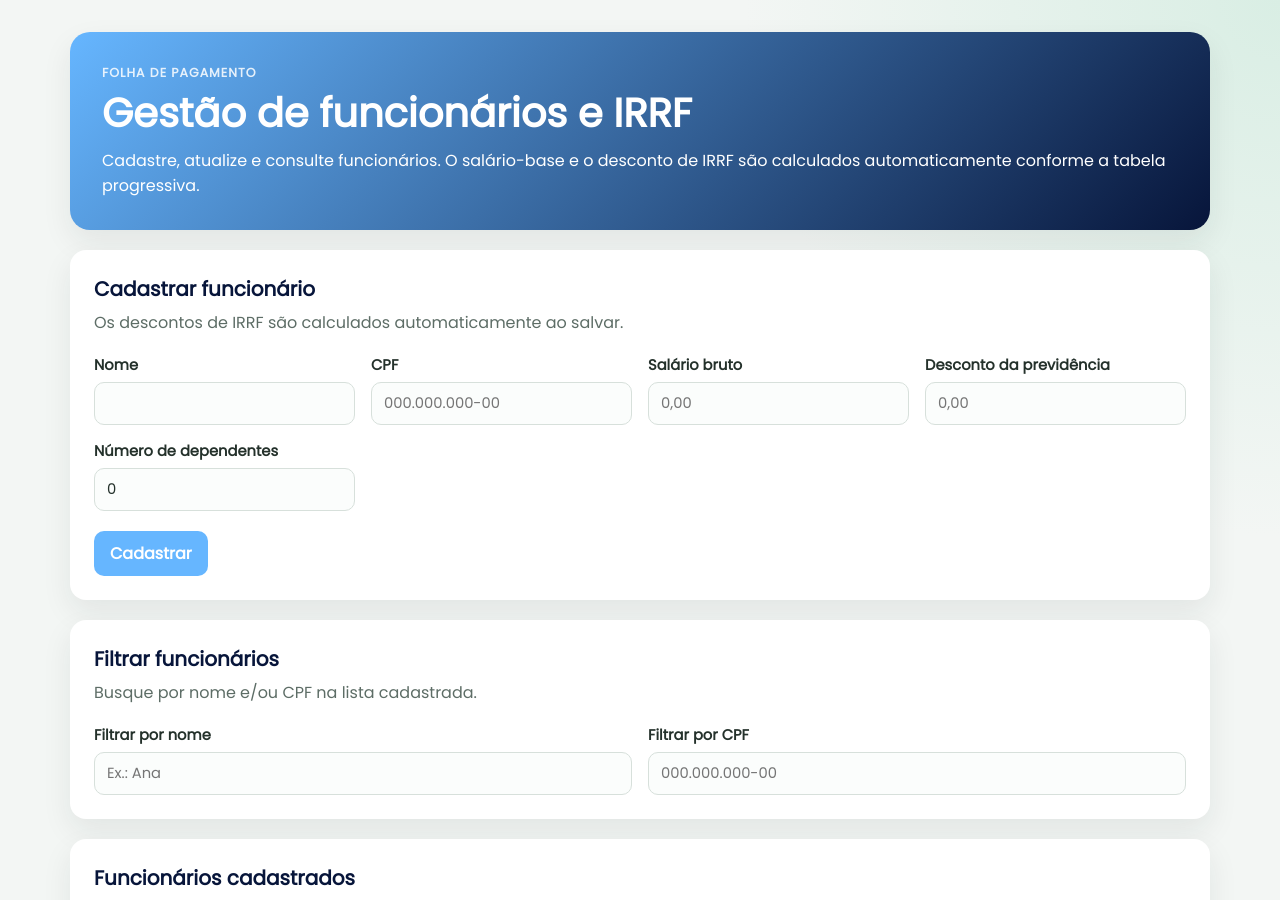
Test case: gestão de funcionários › cadastra um novo funcionário e exibe o IRRF calculado
The width and height of the screenshot is (1280, 900).
In the field labelled "Nome": (224,404) [94,382,355,425], type "Carlos Eduardo Lima"
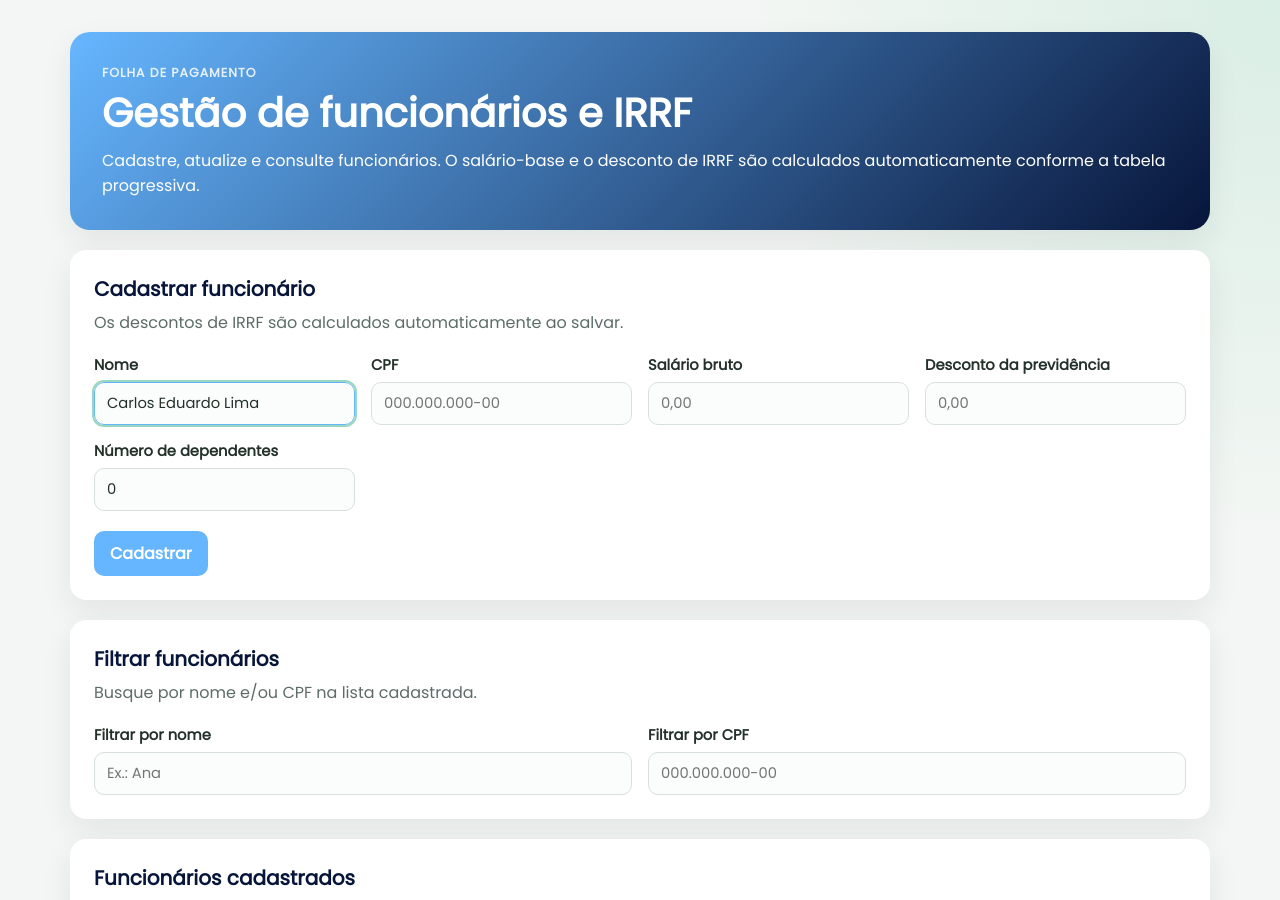
In the field labelled "CPF": (502,404) [371,382,632,425], type "39053344705"
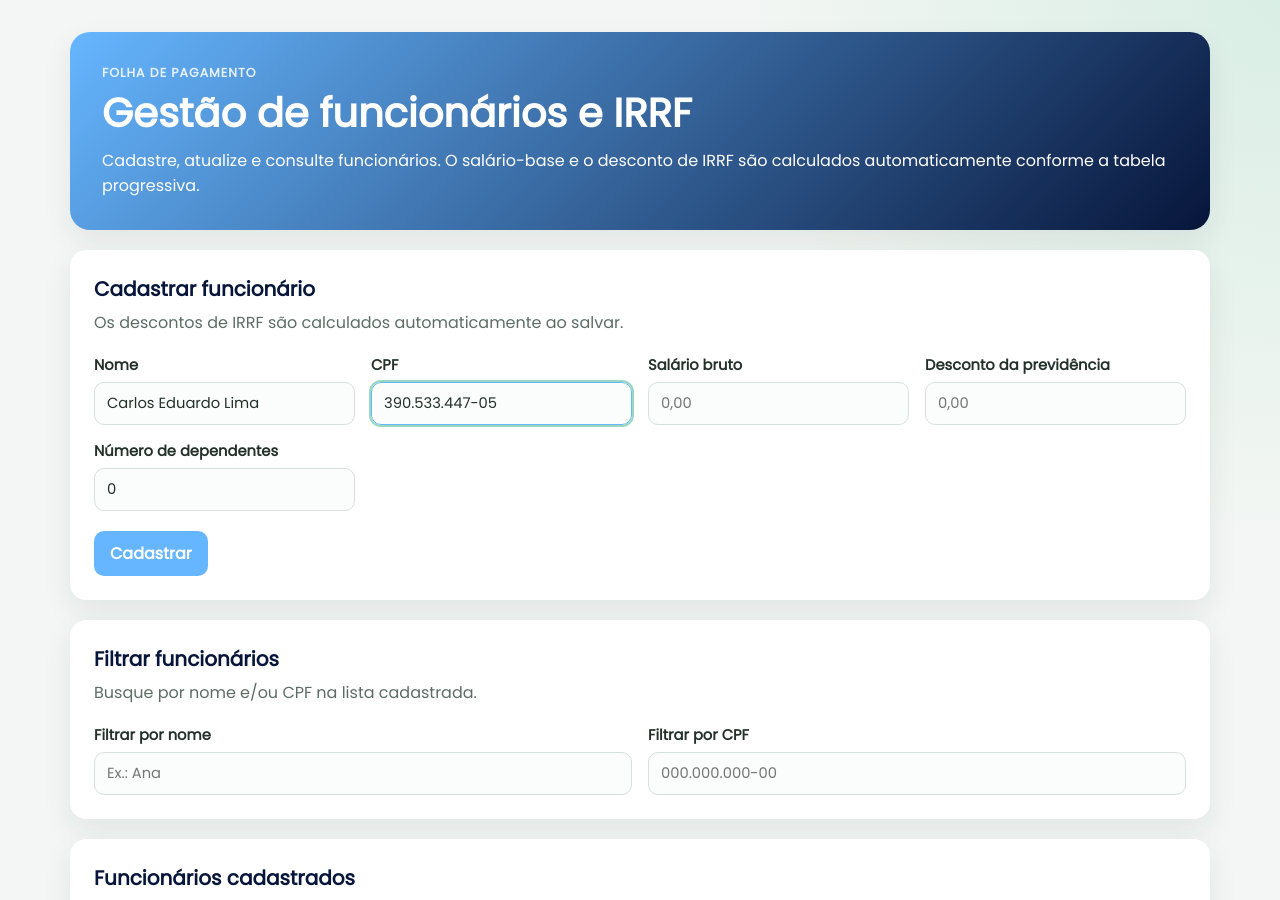
In the number field labelled "Salário bruto": (778,404) [648,382,909,425], type "3200"
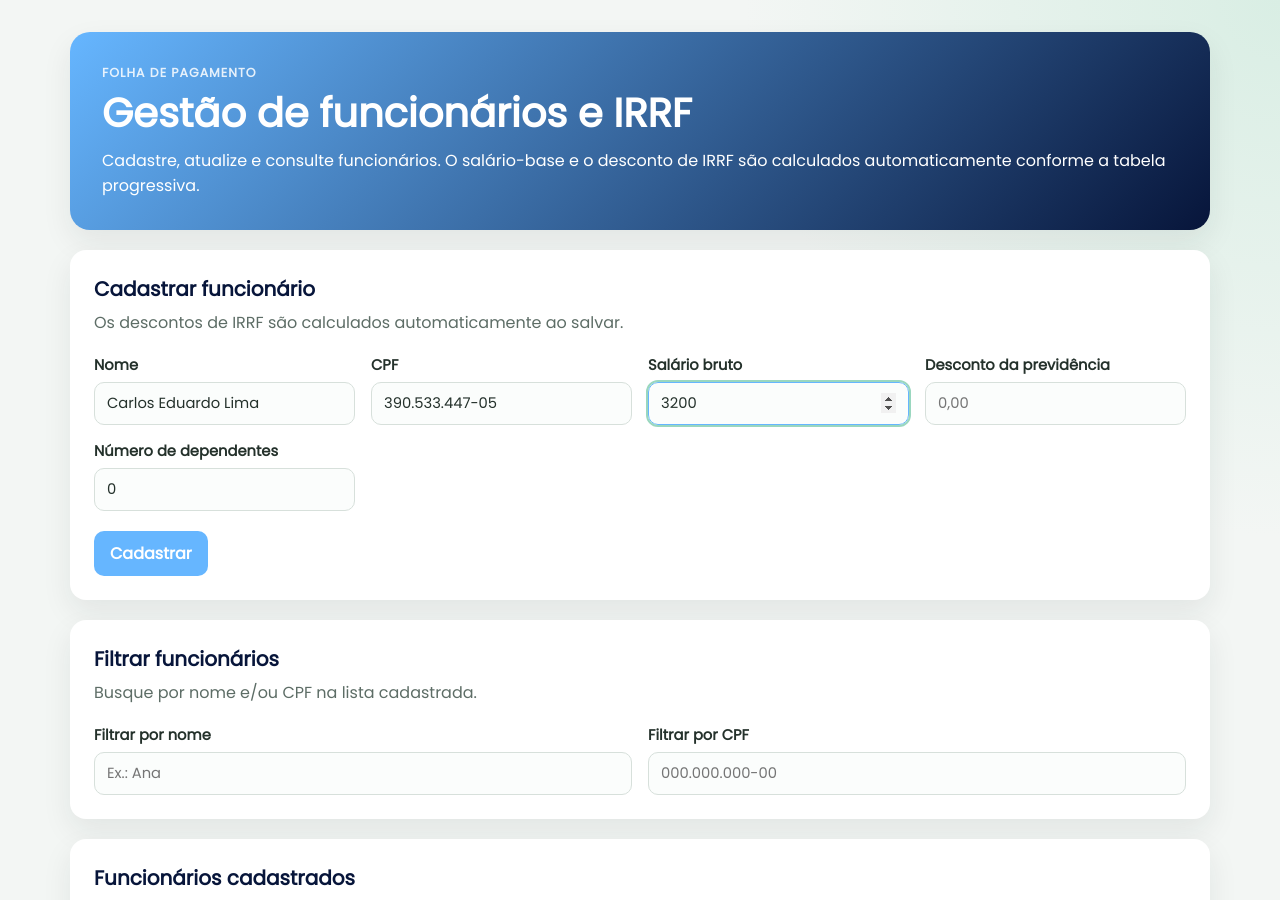
In the number field labelled "Desconto da previdência": (1056,404) [925,382,1186,425], type "320"
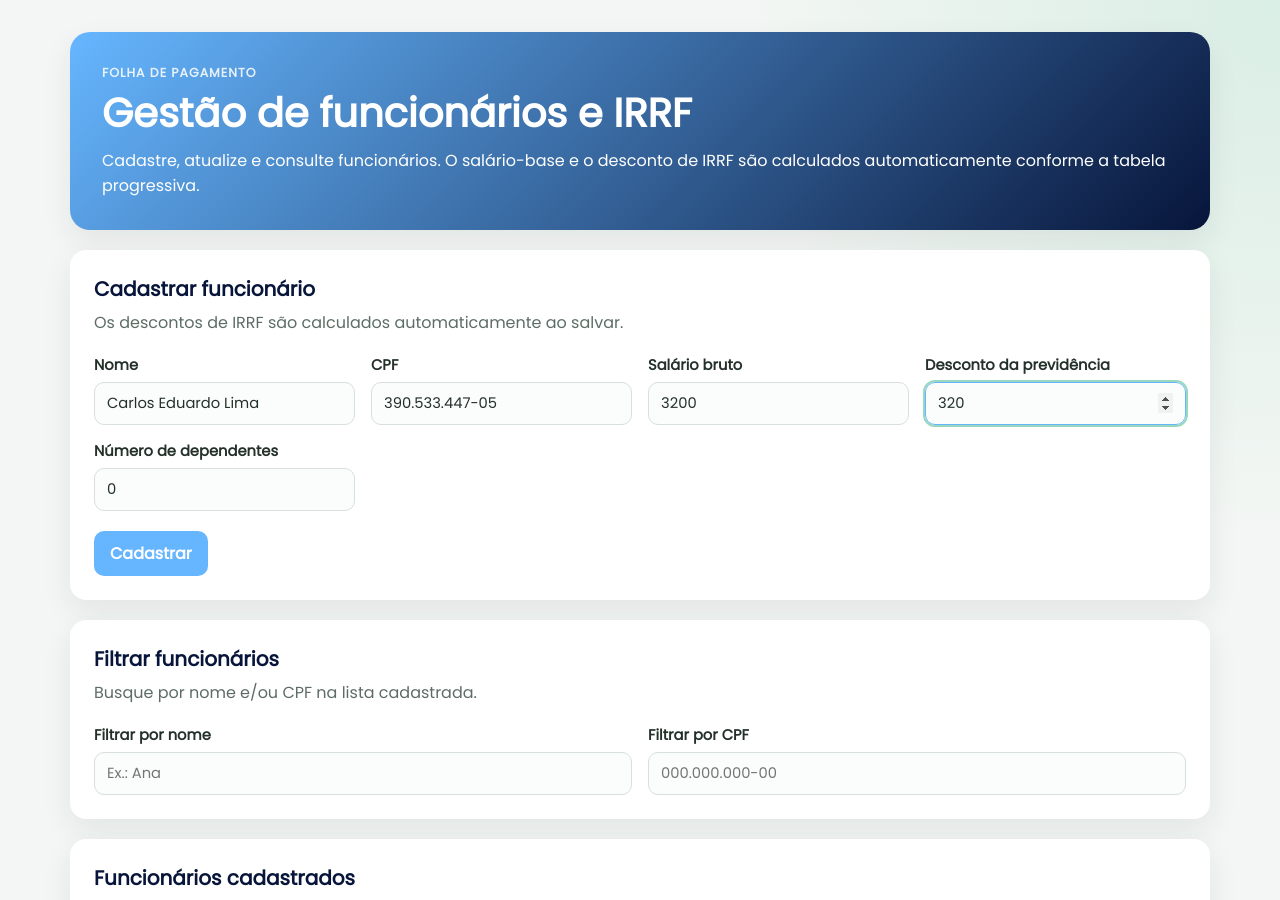
Replace the text in the number field labelled "Número de dependentes" with "1": (224,490) [94,468,355,511]
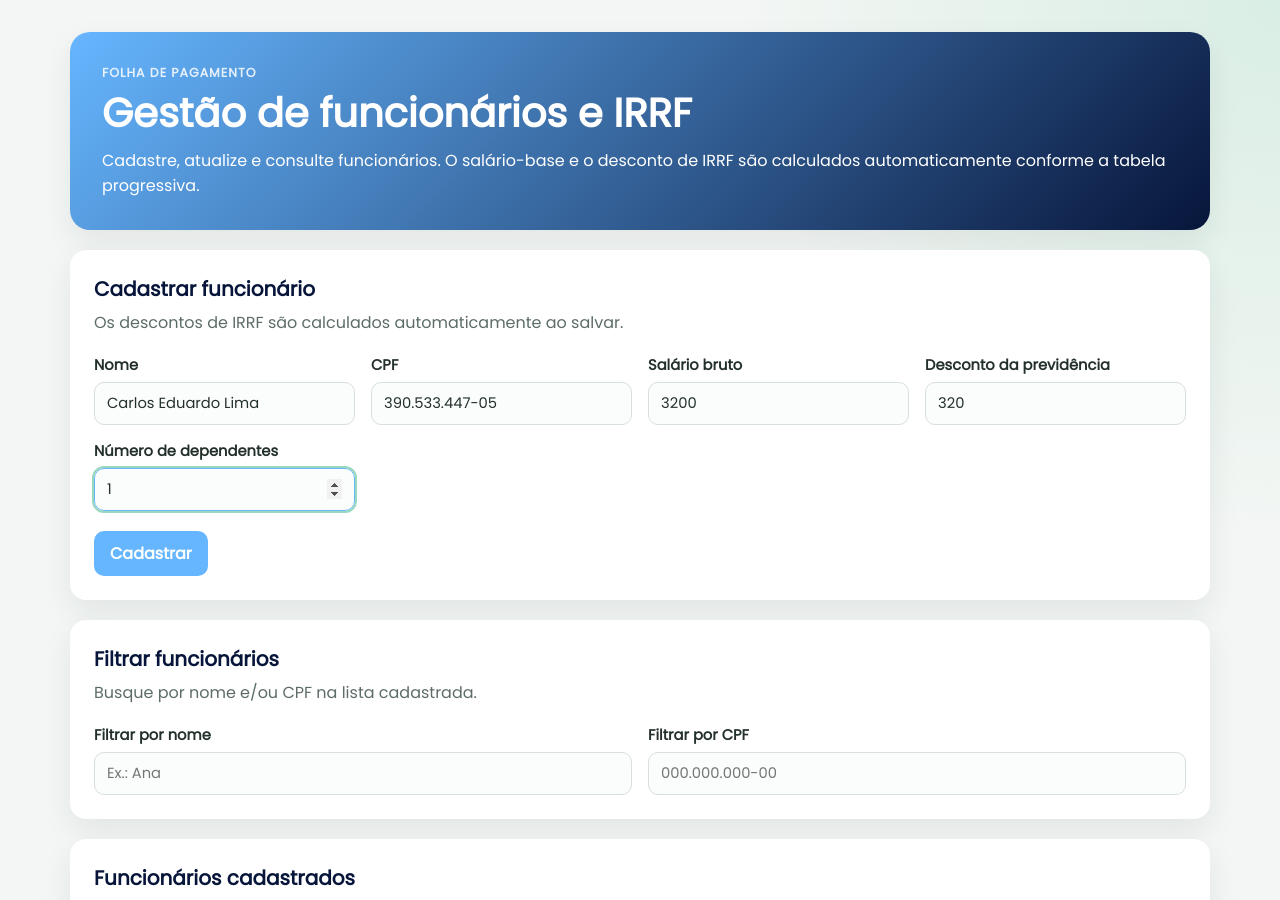
Click the button "Cadastrar": (151,554) [94,531,208,576]
(page scrolled)
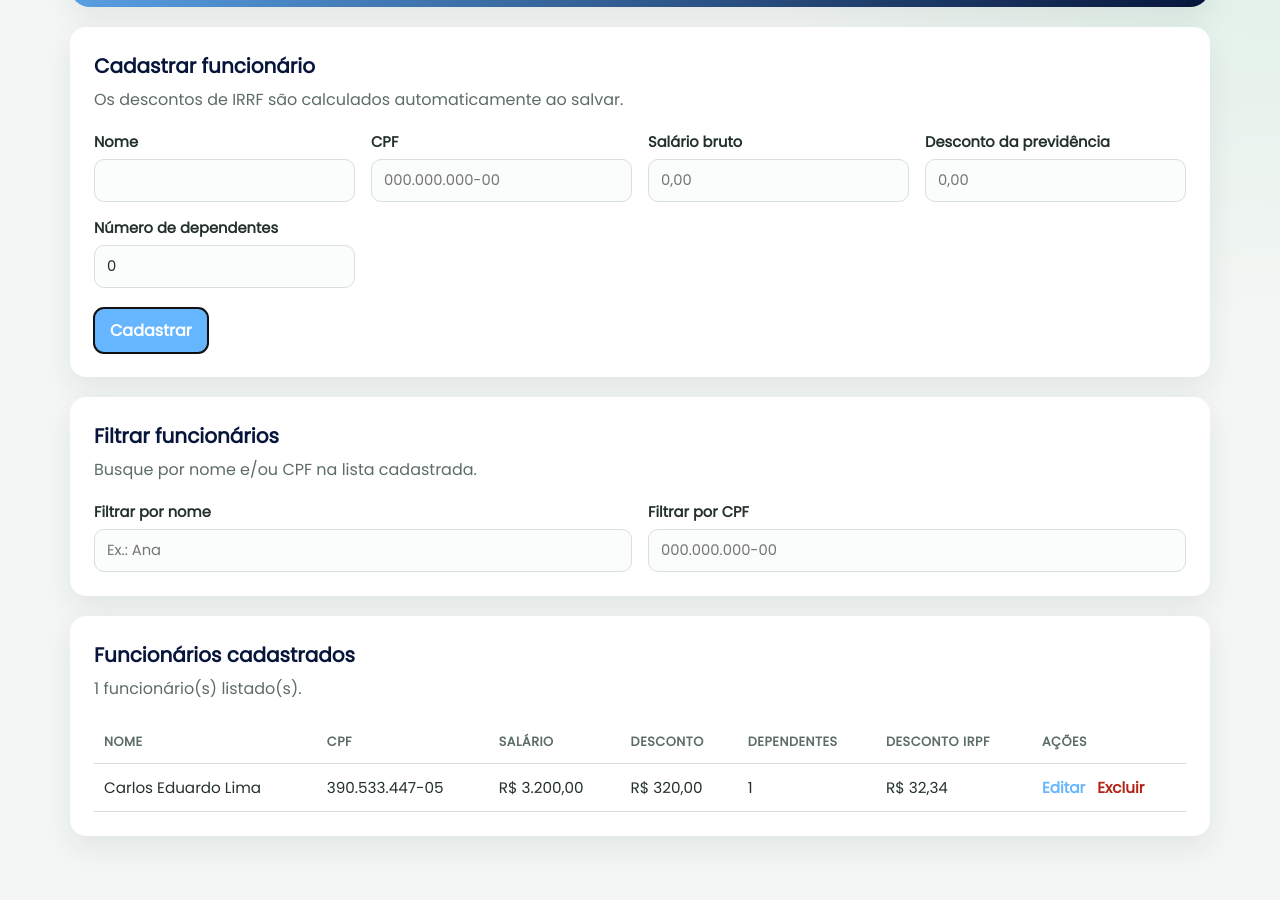
Check: the row "Carlos Eduardo Lima" shows "390.533.447-05", box [327,777,444,798]
